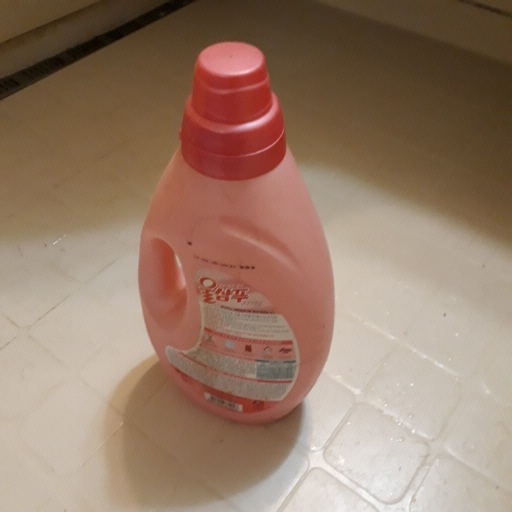Plastic_1: (136, 41, 339, 426)
